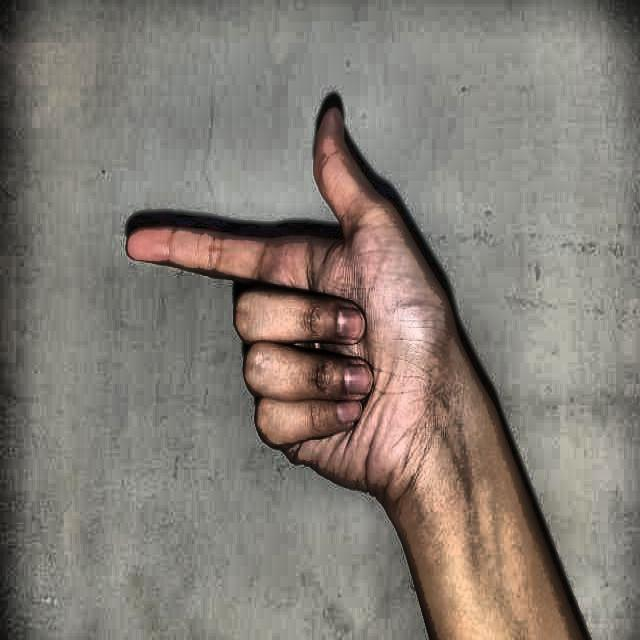Tho: (108, 62, 554, 520)
